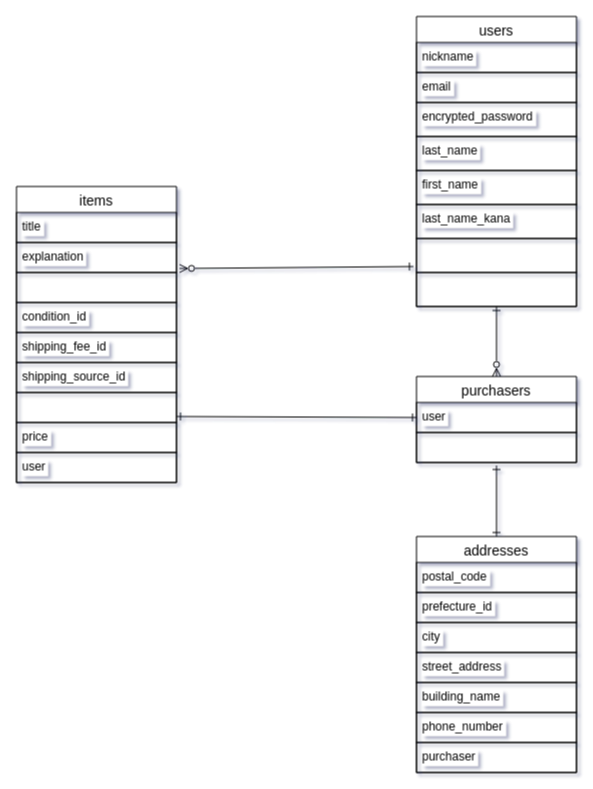
This 593x789 diagram has some shape labels left out. Each missing label, with the centre of its shape:
"birthday" belongs at [496,289].
"category_id" belongs at [96,287].
"first_name_kana" belongs at [496,255].
"item" belongs at [496,447].
"shipping_schedule_id" belongs at [96,407].
